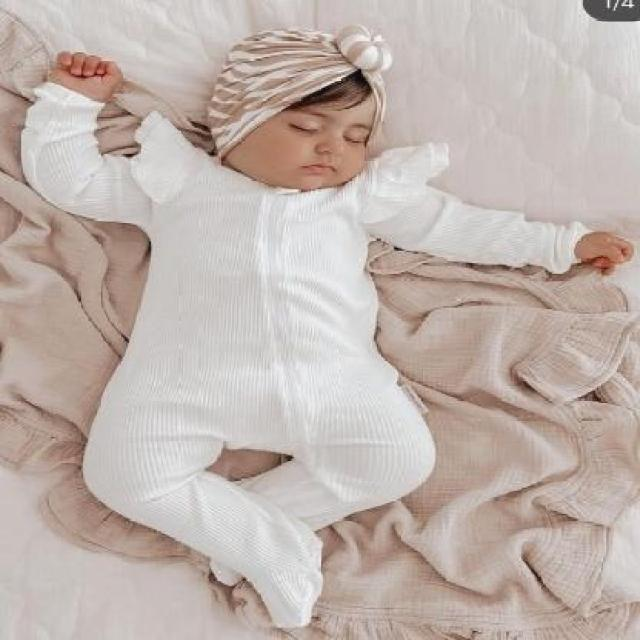baby: (15, 25, 632, 630)
